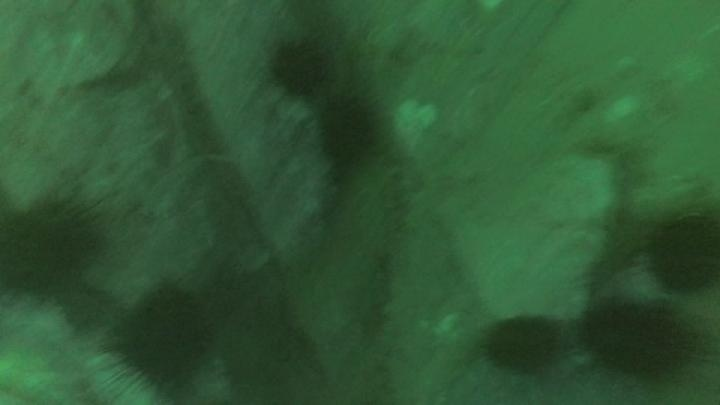echinus: (102, 281, 217, 397), (0, 191, 103, 298), (579, 298, 701, 384), (645, 212, 719, 294), (315, 90, 381, 167), (482, 315, 562, 376), (266, 35, 332, 98)
